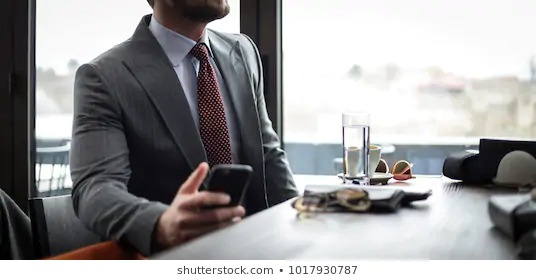F_tie: (184, 31, 247, 206)
